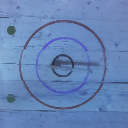Axe Tip: (49, 63, 61, 65)
